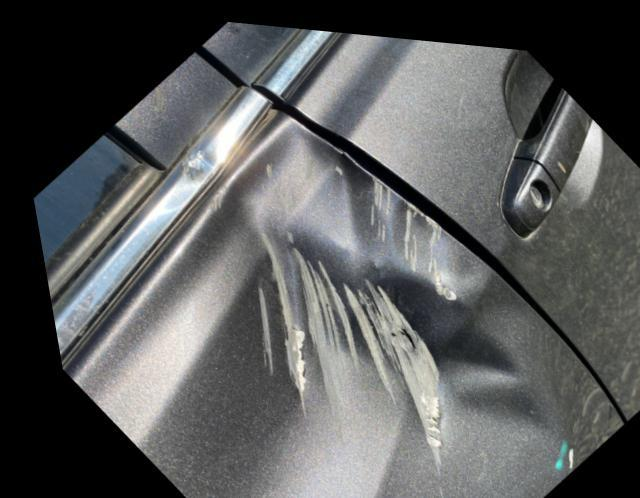dent: (211, 109, 515, 424)
